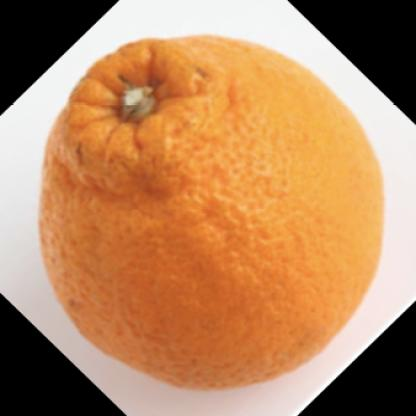fresh: (39, 35, 383, 393)
